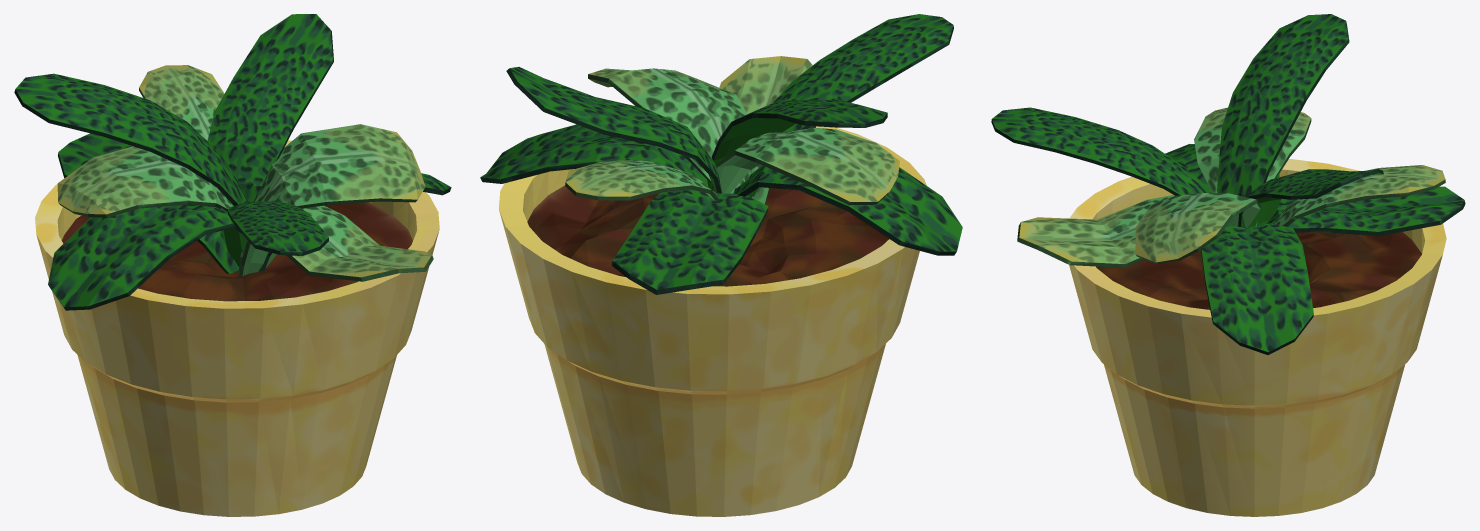
The model's file is Phalaenopsis_Neutral_End.glb.
3 renders of one model, left to right at view 1: azimuth 30°, elevation 25°; view 2: azimuth 150°, elevation 25°; view 3: azimuth 270°, elevation 25°, orthographic. The views are drawn at different scales.
Parts seen in each view (by area): view 1: Pot, Plant; view 2: Pot, Plant; view 3: Pot, Plant.
Boxes of the visible parts, box(x1,y1,x2,y2) form: Pot: box(35, 140, 439, 516); Plant: box(14, 14, 451, 310); Pot: box(499, 126, 926, 516); Plant: box(480, 14, 962, 294); Pot: box(1069, 159, 1446, 516); Plant: box(991, 14, 1465, 354).
Size of the model in its own units: 2.38 by 2.17 by 2.53.
Materials: 3 (3 with a texture image).
